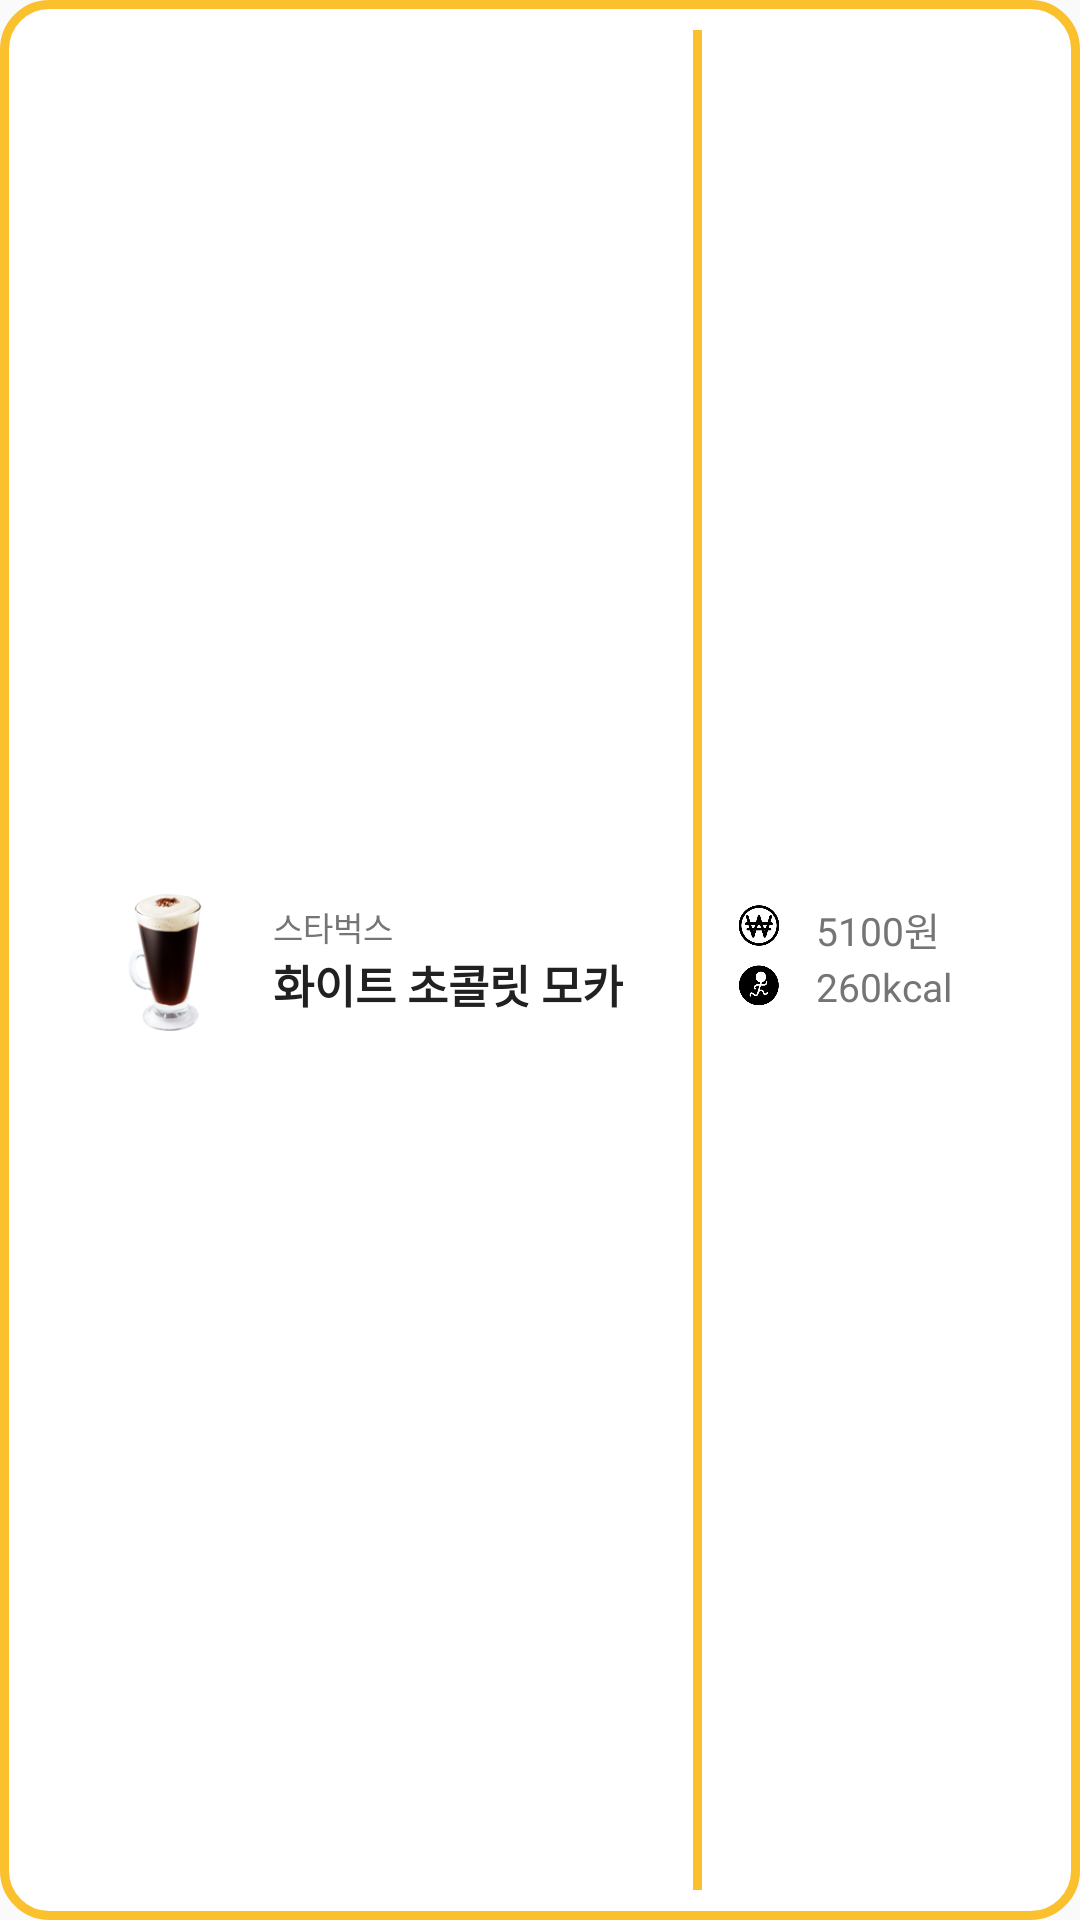

Icons on this 1080px x 1920px Android screen, each with its box as Rect(x1, y1, x2, y2):
won: Rect(739, 905, 779, 946)
